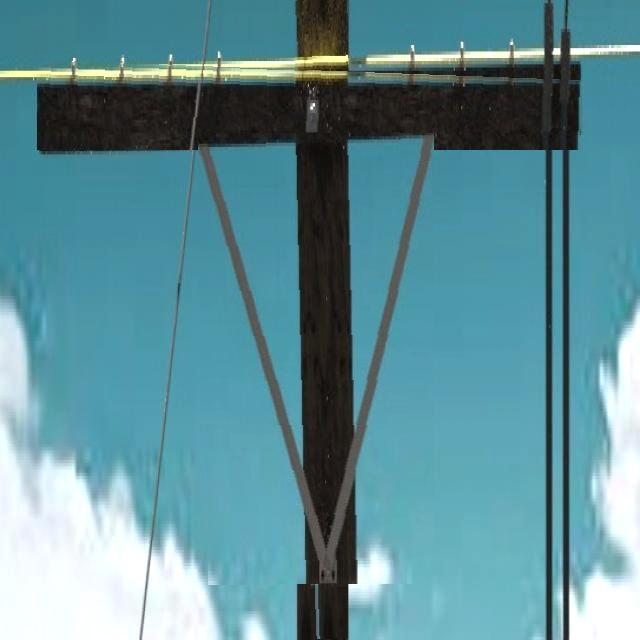crossarm: (198, 133, 434, 584), (37, 76, 582, 150)
pole: (294, 1, 348, 639)
